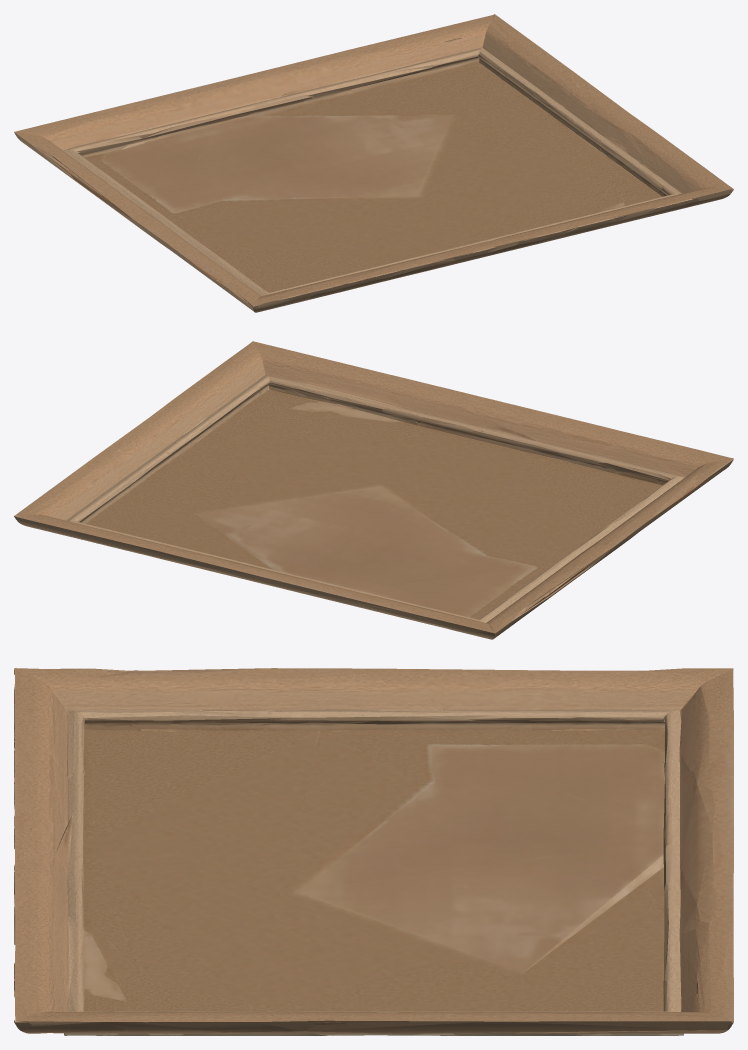
3 views of the same model, one above another, from view 1: azimuth 30°, elevation 25°; view 2: azimuth 150°, elevation 25°; view 3: azimuth 270°, elevation 25° (orthographic). The views are drawn at different scales.
Size of the model in its own units: 1.9 by 0.0894 by 1.64.
1 material, 1 textured.
